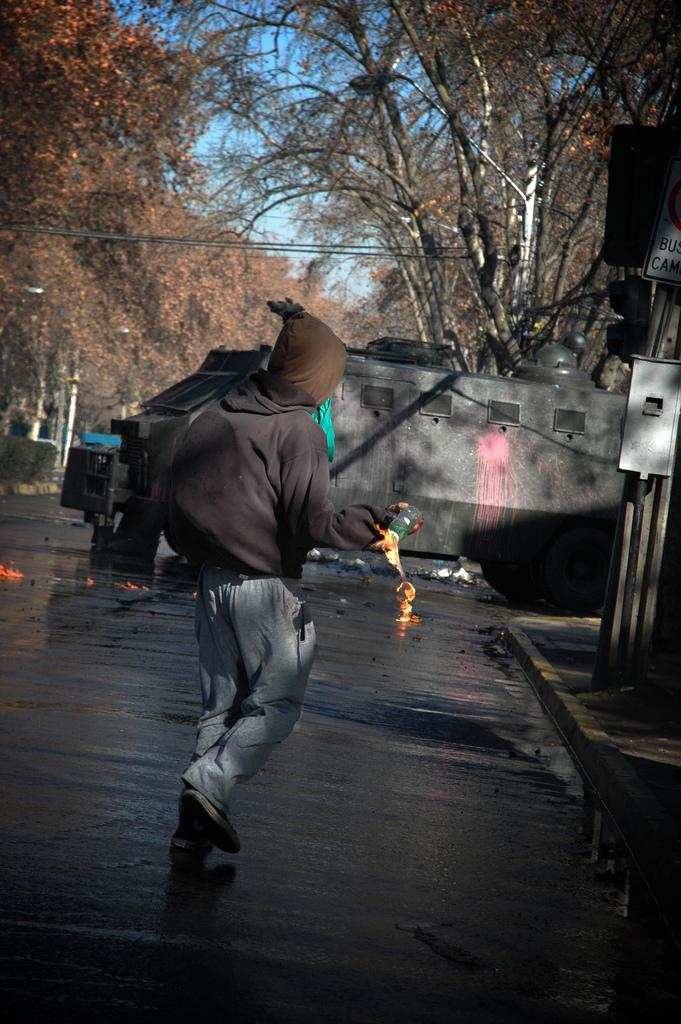fire: (380, 515, 428, 568)
